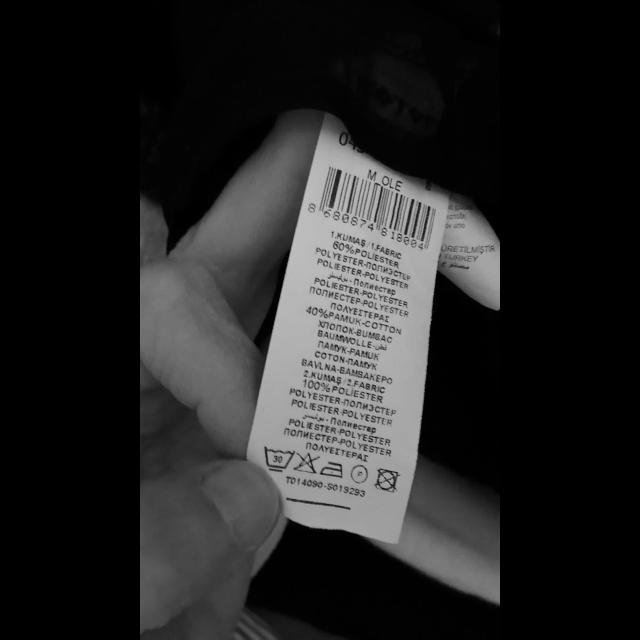30C: (262, 442, 298, 473)
DN_bleach: (292, 452, 320, 476)
DN_tumble_dry: (372, 466, 402, 494)
iron_low: (318, 458, 344, 479)
normal_dry_clean_solvents: (349, 462, 368, 486)
